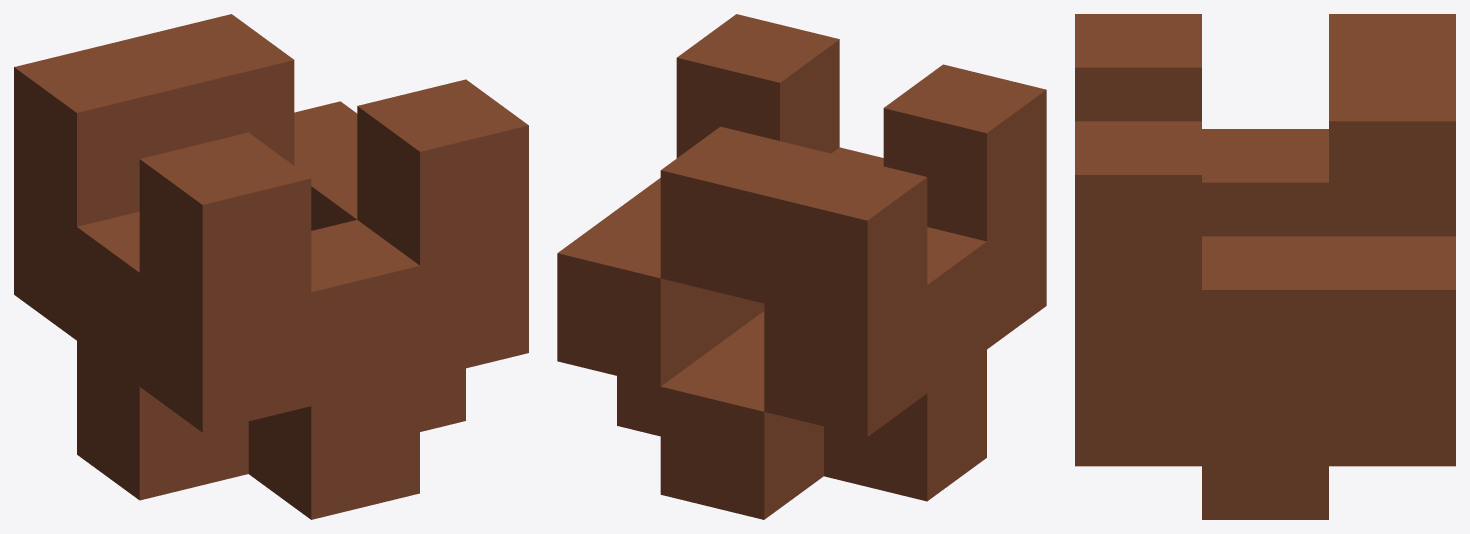
File: bush-1.gltf
3 renders of one model, left to right at view 1: azimuth 30°, elevation 25°; view 2: azimuth 150°, elevation 25°; view 3: azimuth 270°, elevation 25°, orthographic. The views are drawn at different scales.
Parts seen in each view (by area): view 1: bush-1_model; view 2: bush-1_model; view 3: bush-1_model.
Boxes of the visible parts, x1,y1,x2,y2 form: bush-1_model: (14,14,528,519); bush-1_model: (557,14,1046,519); bush-1_model: (1075,14,1455,519).
Size of the model in its own units: 0.3 by 0.3 by 0.3.
Materials: 1 (1 with a texture image).
